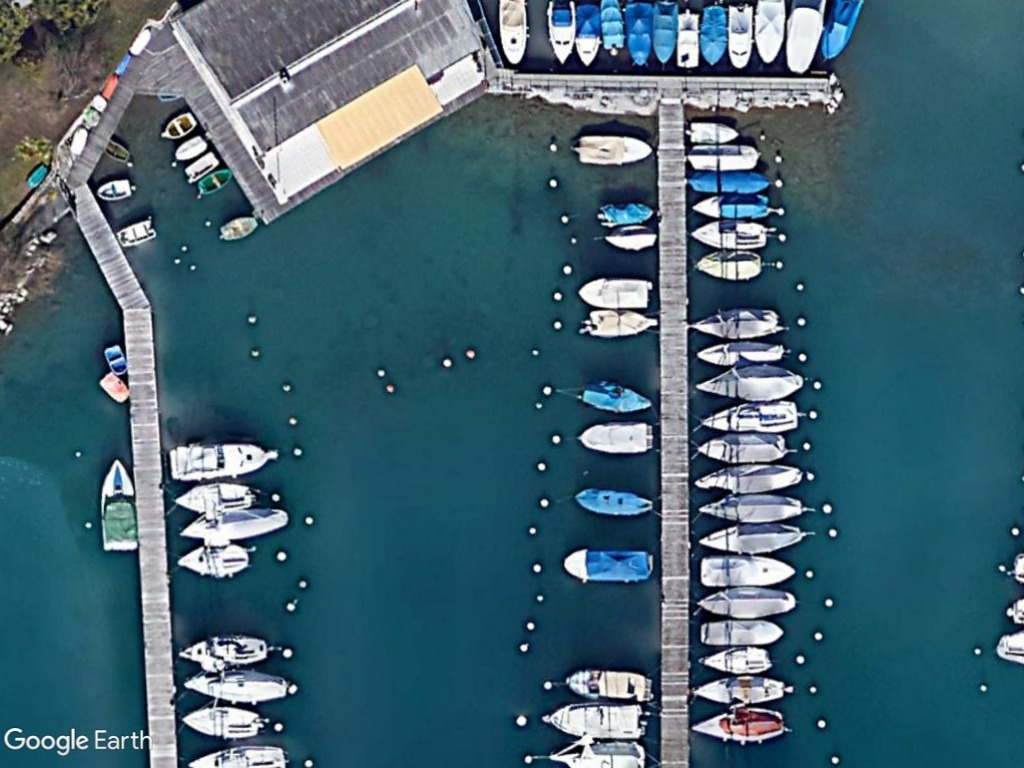boat: (536, 696, 652, 744), (178, 499, 295, 546), (182, 659, 291, 707), (165, 434, 268, 483), (94, 453, 142, 556), (688, 459, 812, 497), (172, 631, 274, 675), (691, 549, 803, 589), (694, 488, 810, 526), (558, 663, 658, 707), (694, 362, 803, 402), (690, 668, 789, 712), (696, 515, 810, 553), (693, 582, 803, 621), (556, 544, 658, 585), (171, 479, 266, 521), (181, 701, 269, 746), (699, 397, 804, 434), (570, 483, 658, 527), (694, 426, 790, 466), (574, 124, 657, 170), (688, 705, 791, 741), (174, 539, 256, 583), (688, 304, 786, 340), (578, 415, 659, 457), (574, 272, 657, 312), (568, 381, 659, 417), (694, 618, 791, 650), (687, 217, 771, 252), (691, 247, 768, 285), (581, 304, 659, 340), (693, 643, 778, 676), (696, 0, 731, 76), (723, 0, 757, 76), (603, 221, 662, 255), (213, 205, 261, 246), (684, 115, 742, 147), (111, 213, 160, 250), (92, 170, 136, 207)
